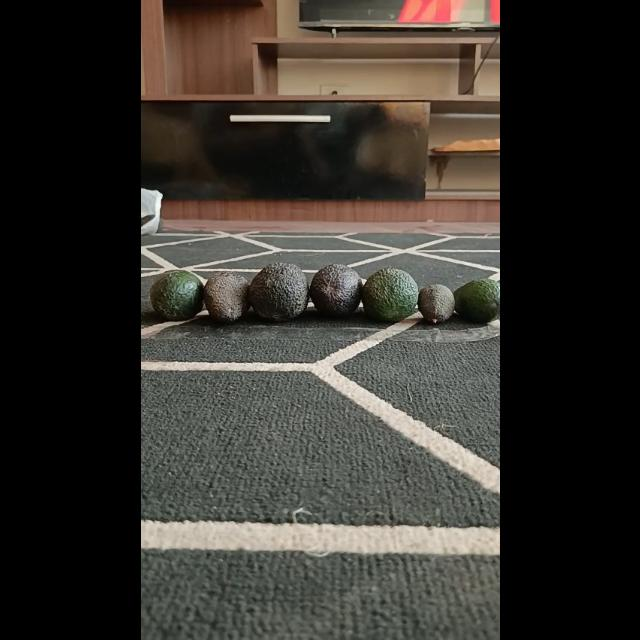Primera: (247, 262, 310, 321), (308, 262, 364, 318), (148, 270, 202, 320)
Segunda: (362, 266, 418, 322), (202, 271, 252, 323), (452, 278, 498, 324)
Tercera: (416, 282, 456, 324)
